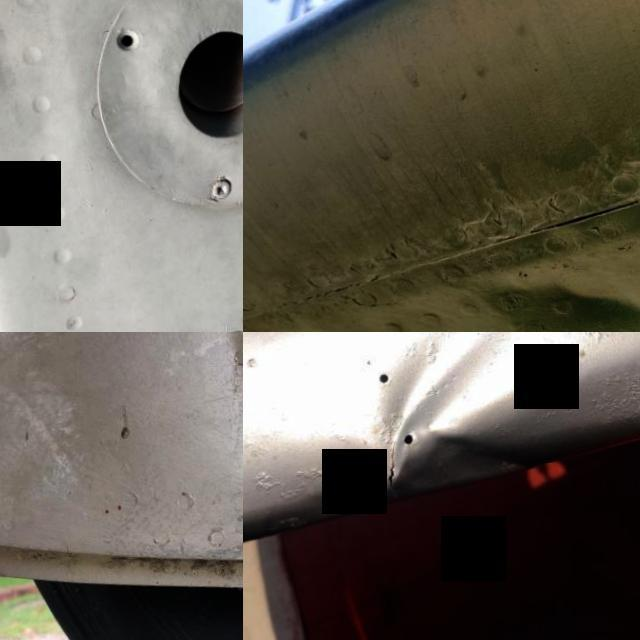Crack: (374, 447, 412, 510)
Dent: (338, 332, 585, 511), (475, 235, 640, 332)
Missing_Fastener: (91, 13, 156, 77)
